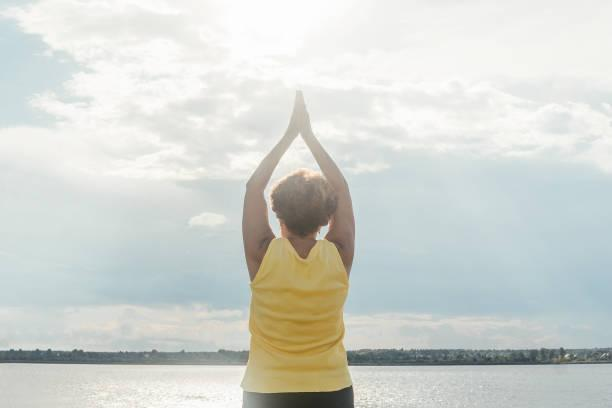Human: (192, 74, 400, 408)
